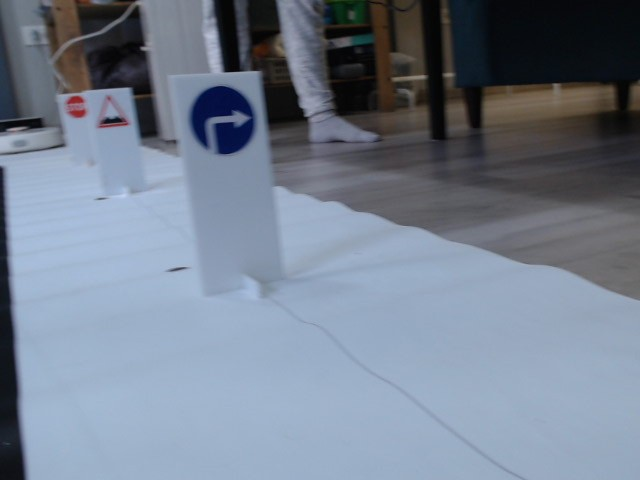Nerov: (94, 94, 131, 129)
Right: (189, 85, 253, 158)
